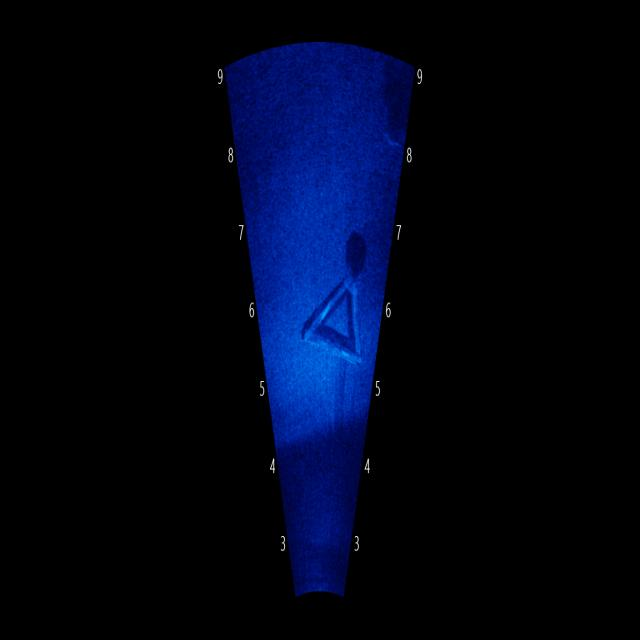triangle: (287, 219, 373, 387)
